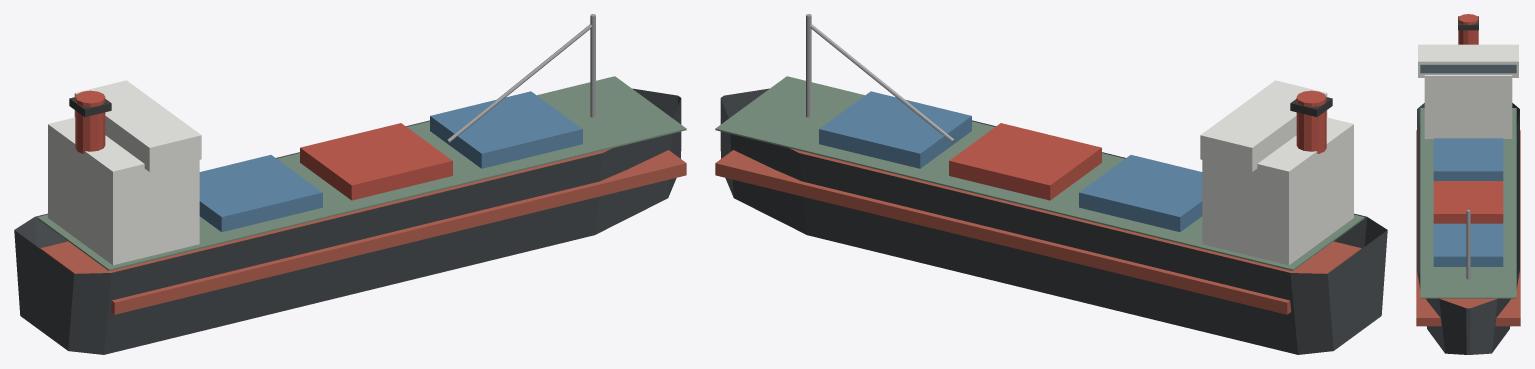
File: CargoShip.glb
3 views of the same model, side by side, from view 1: azimuth 30°, elevation 25°; view 2: azimuth 150°, elevation 25°; view 3: azimuth 270°, elevation 25° (orthographic). The views are drawn at different scales.
Visible parts, largest first — view 1: Hull, Bridge house, Main deck, Boot topping, Hatch.001, Hatch.002, Hatch, Wheelhouse, Funnel, Member.003, Member.002; view 2: Hull, Bridge house, Main deck, Boot topping, Hatch.001, Hatch.002, Hatch, Wheelhouse, Funnel, Member.003, Member.002; view 3: Main deck, Bridge house, Hull, Hatch, Hatch.001, Hatch.002, Wheelhouse, Boot topping, Bridge glass, Funnel, Member.002, Funnel band.
Part boxes in pixels (x1,y1,x2,y2): Hull: (14, 88, 681, 354); Bridge house: (48, 117, 199, 265); Main deck: (37, 76, 686, 270); Boot topping: (40, 148, 686, 314); Hatch.001: (300, 123, 452, 200); Hatch.002: (430, 91, 582, 168); Hatch: (199, 155, 322, 231); Wheelhouse: (74, 80, 201, 171); Funnel: (75, 90, 105, 153); Member.003: (447, 24, 591, 142); Member.002: (590, 14, 595, 117); Hull: (720, 88, 1387, 354); Bridge house: (1202, 117, 1353, 265); Main deck: (715, 76, 1364, 270); Boot topping: (715, 148, 1361, 314); Hatch.001: (949, 123, 1101, 200); Hatch.002: (819, 91, 971, 168); Hatch: (1079, 155, 1202, 231); Wheelhouse: (1200, 80, 1327, 171); Funnel: (1296, 90, 1326, 153); Member.003: (810, 24, 954, 142); Member.002: (806, 14, 811, 117); Main deck: (1420, 108, 1516, 298); Bridge house: (1424, 75, 1512, 138); Hull: (1417, 103, 1519, 354); Hatch: (1433, 138, 1503, 180); Hatch.001: (1433, 181, 1503, 223); Hatch.002: (1433, 223, 1503, 266); Wheelhouse: (1418, 44, 1518, 77); Boot topping: (1416, 130, 1520, 326); Bridge glass: (1420, 64, 1516, 73); Funnel: (1458, 14, 1478, 44); Member.002: (1466, 210, 1470, 279); Funnel band: (1458, 16, 1478, 30).
Size of the model in its own units: 44 by 15.3 by 9.3.
